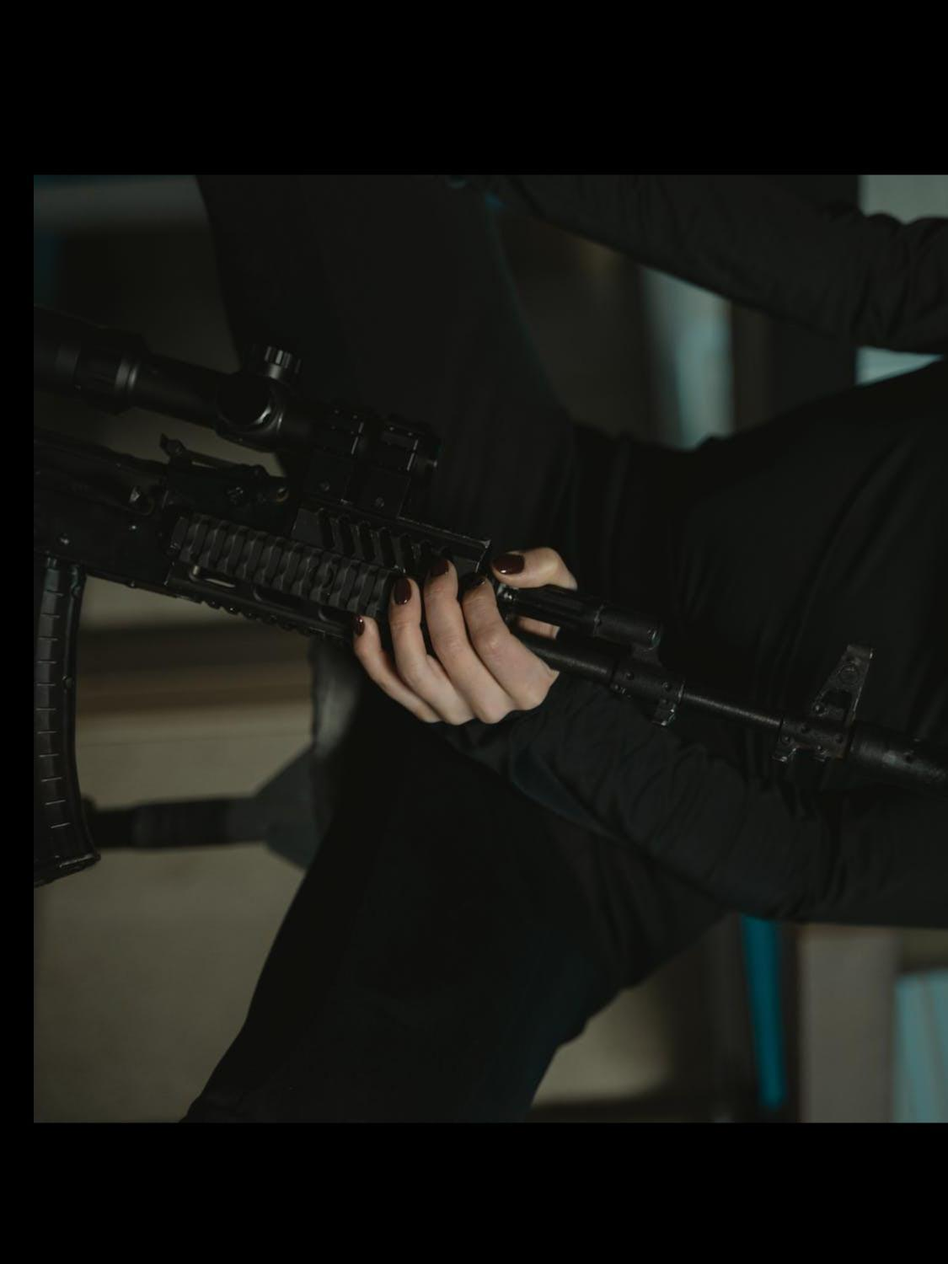larga: (32, 320, 948, 893)
